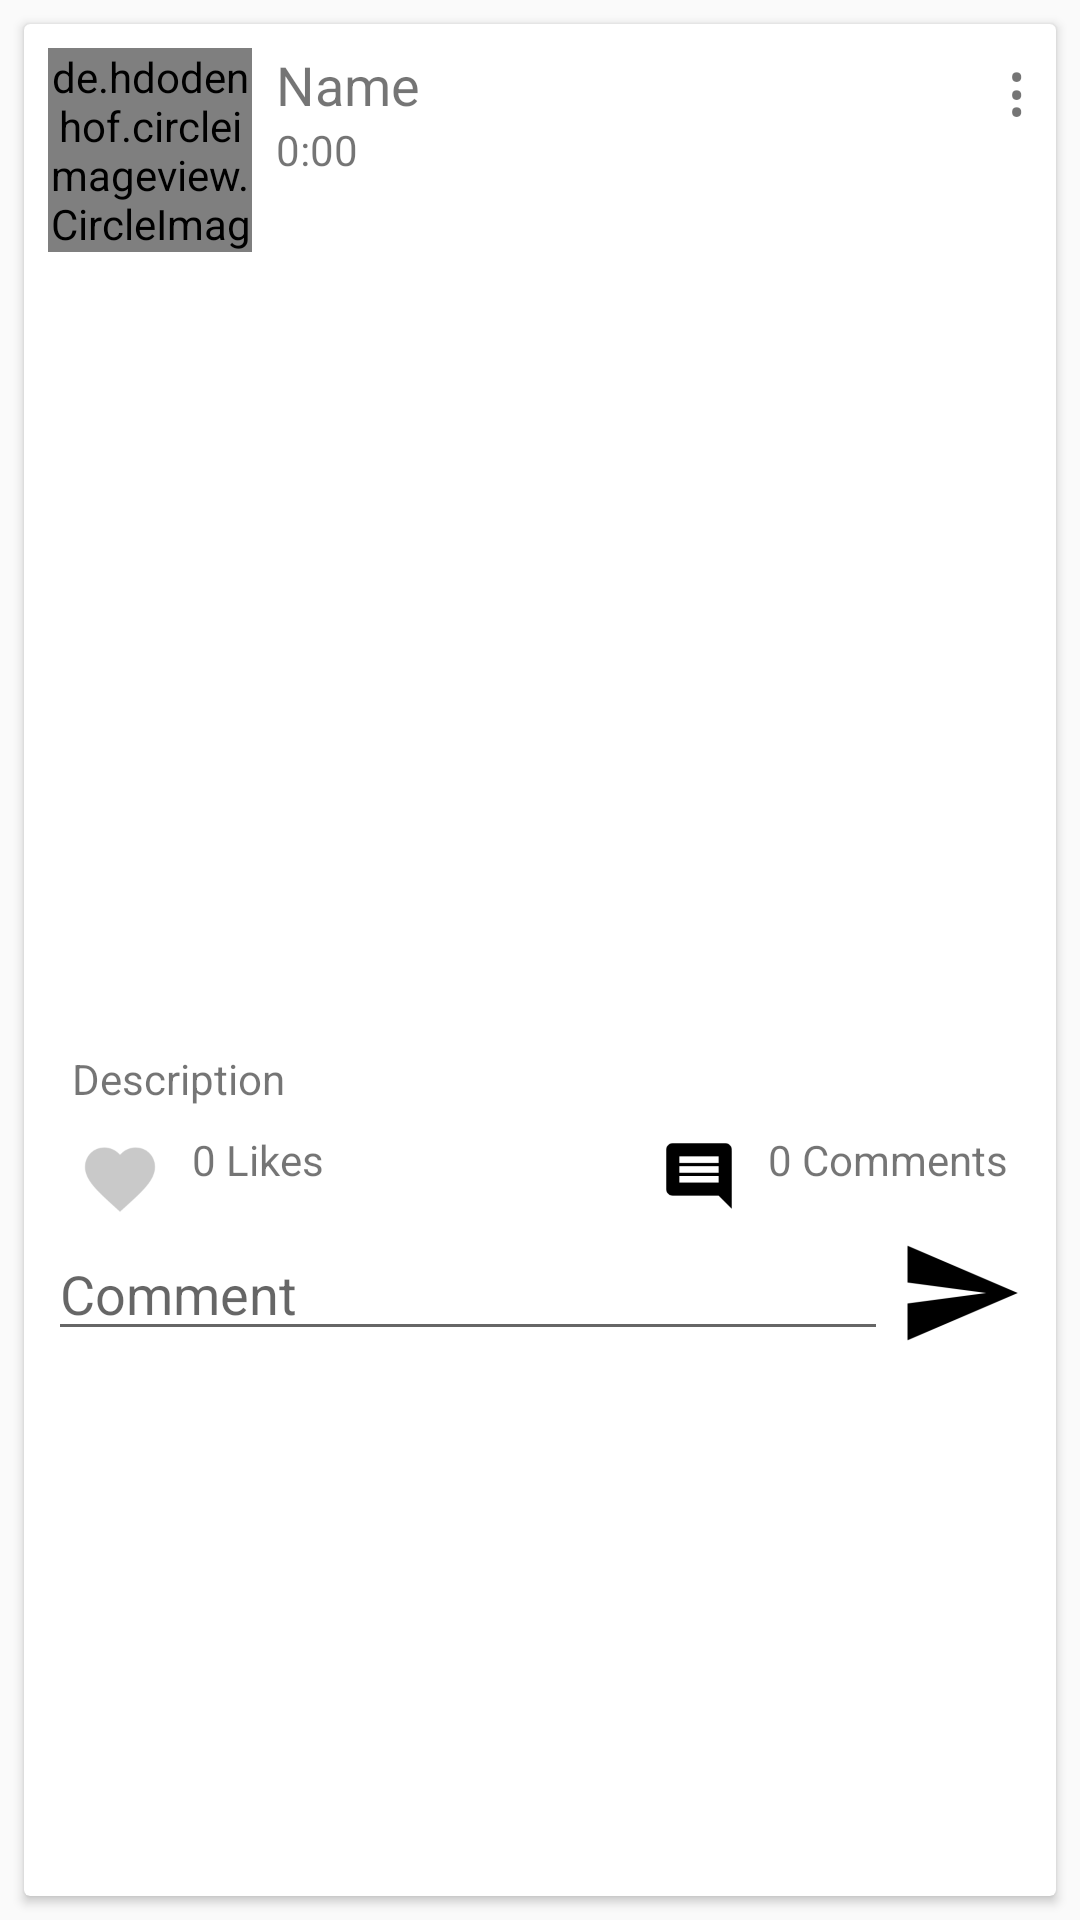

Where icons sit on this 1080*1920 app screen, as [left=x1, top=y1, right=x2, bottom=y2]:
favorite: [left=85, top=1148, right=155, bottom=1211]
send: [left=907, top=1246, right=1018, bottom=1340]
